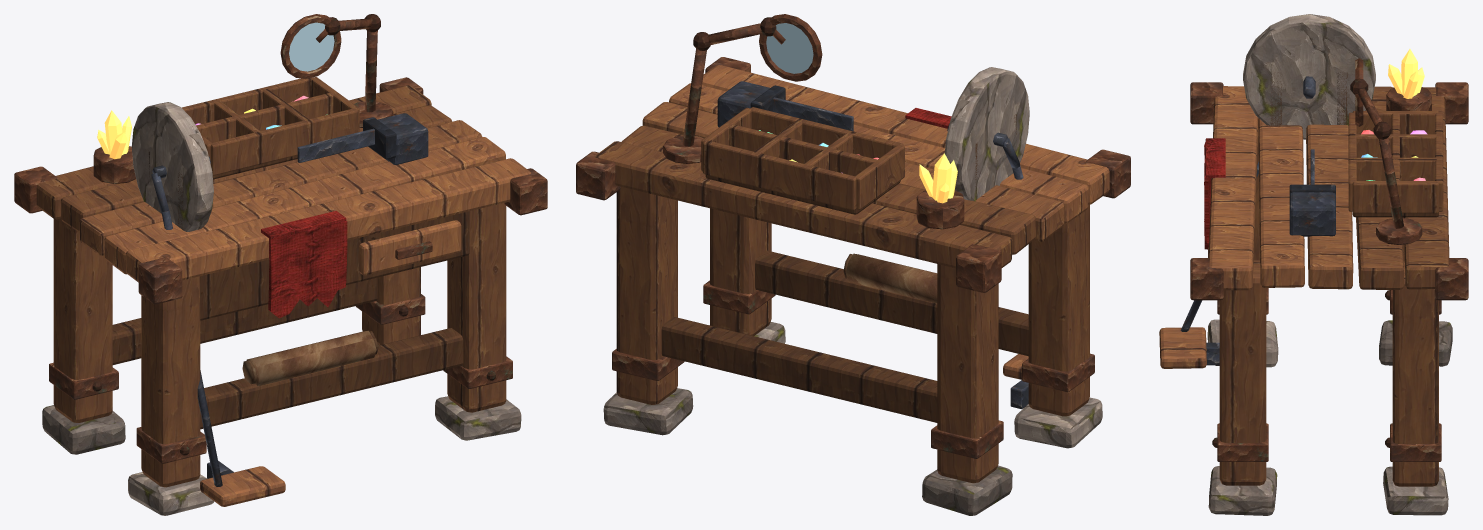
File: gem_bench.glb
3 renders of one model, left to right at view 1: azimuth 30°, elevation 25°; view 2: azimuth 150°, elevation 25°; view 3: azimuth 270°, elevation 25°, orthographic. The views are drawn at different scales.
Parts seen in each view (by area): view 1: model; view 2: model; view 3: model.
Boxes of the visible parts, x1,y1,x2,y2 form: model: (14, 14, 547, 515); model: (576, 14, 1130, 515); model: (1159, 14, 1468, 515).
Bounding box in the file's own units: 1.35 × 1.3 × 0.93.
Materials: 24 (15 with a texture image).
